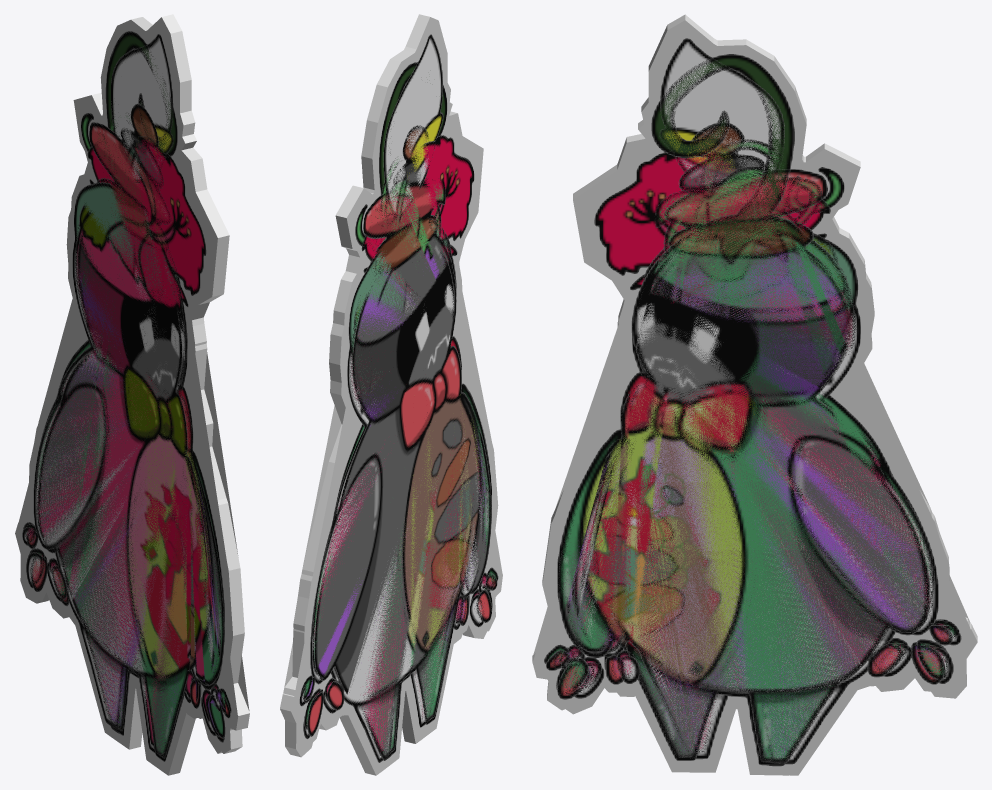
The model's file is FiveRoros.fbx.
3 views of the same model, side by side, from view 1: azimuth 30°, elevation 25°; view 2: azimuth 150°, elevation 25°; view 3: azimuth 270°, elevation 25° (orthographic). The views are drawn at different scales.
Visible parts, largest first — view 1: Red, Grey, Green, White, Purple; view 2: Grey, White, Green, Red, Purple; view 3: Green, Grey, Purple, White, Red.
Part boxes in pixels (x1,y1,x2,y2): Red: [17, 119, 234, 763]; Grey: [20, 103, 249, 775]; Green: [17, 17, 249, 775]; White: [15, 14, 232, 772]; Purple: [20, 92, 236, 752]; Grey: [301, 125, 502, 771]; White: [280, 14, 496, 775]; Green: [283, 50, 502, 774]; Red: [292, 111, 498, 764]; Purple: [296, 158, 502, 765]; Green: [533, 39, 970, 775]; Grey: [532, 122, 966, 775]; Purple: [534, 139, 964, 775]; White: [544, 14, 977, 775]; Red: [551, 134, 972, 774].
Size of the model in its own units: 0.0141 by 0.7554 by 0.4038.
Materials: 2 (1 with a texture image).
